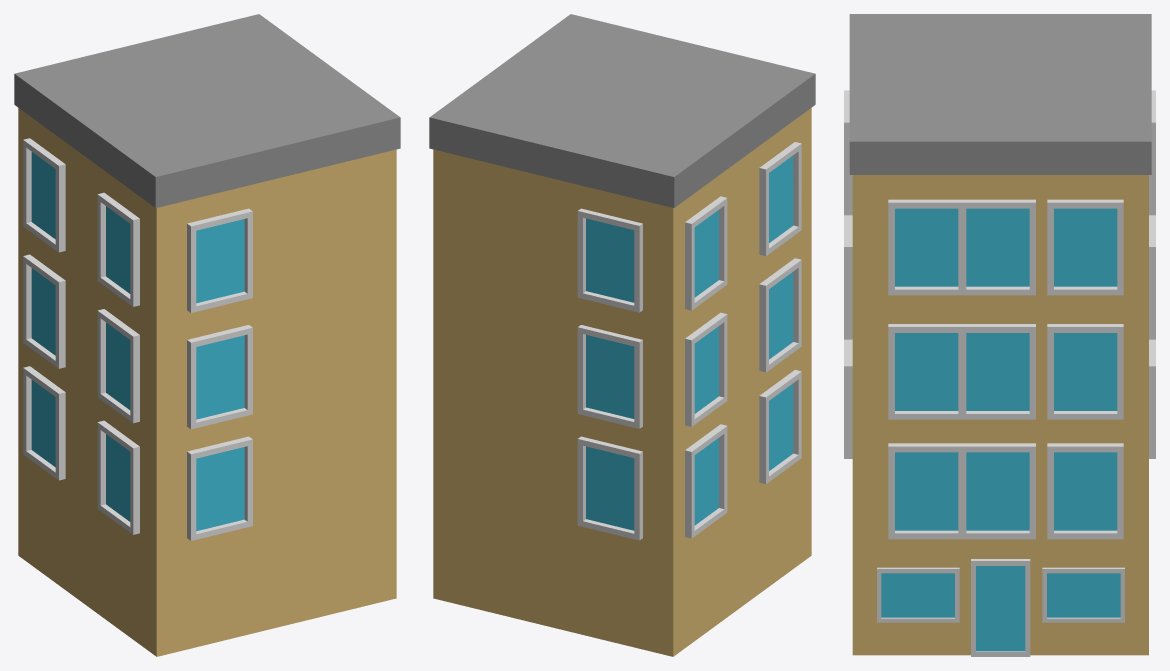
Rendered from building6.fbx.
3 views of the same model, side by side, from view 1: azimuth 30°, elevation 25°; view 2: azimuth 150°, elevation 25°; view 3: azimuth 270°, elevation 25° (orthographic). The views are drawn at different scales.
Visible parts, largest first — view 1: Plane.001; view 2: Plane.001; view 3: Plane.001.
Boxes of the visible parts, x1=… form: Plane.001: x1=14, y1=14, x2=400, y2=656; Plane.001: x1=429, y1=14, x2=815, y2=656; Plane.001: x1=844, y1=14, x2=1155, y2=656.
Bounding box in the file's own units: 1053 × 1917 × 1052.
